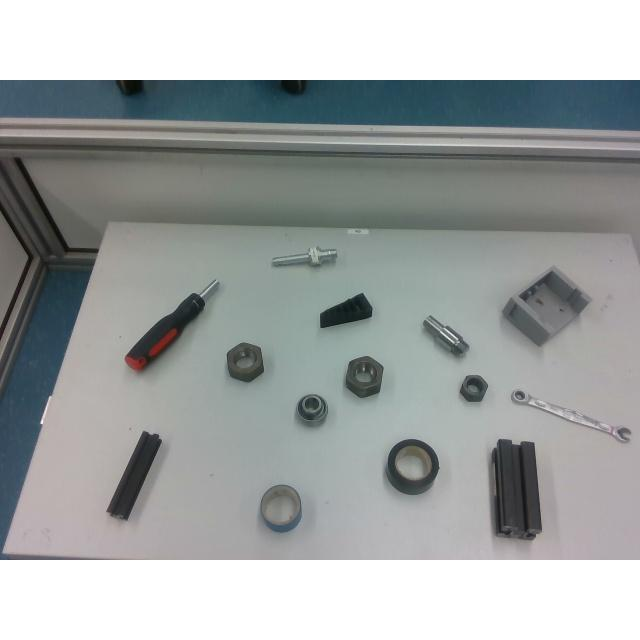Axis2: (424, 315, 468, 355)
Bearing2: (296, 393, 328, 422)
F20_20_B: (106, 432, 162, 518)
M20: (459, 374, 487, 400)
M30: (345, 355, 383, 395), (228, 342, 264, 380)
S40_40_B: (491, 438, 543, 542)
Wrench: (510, 390, 630, 440)
